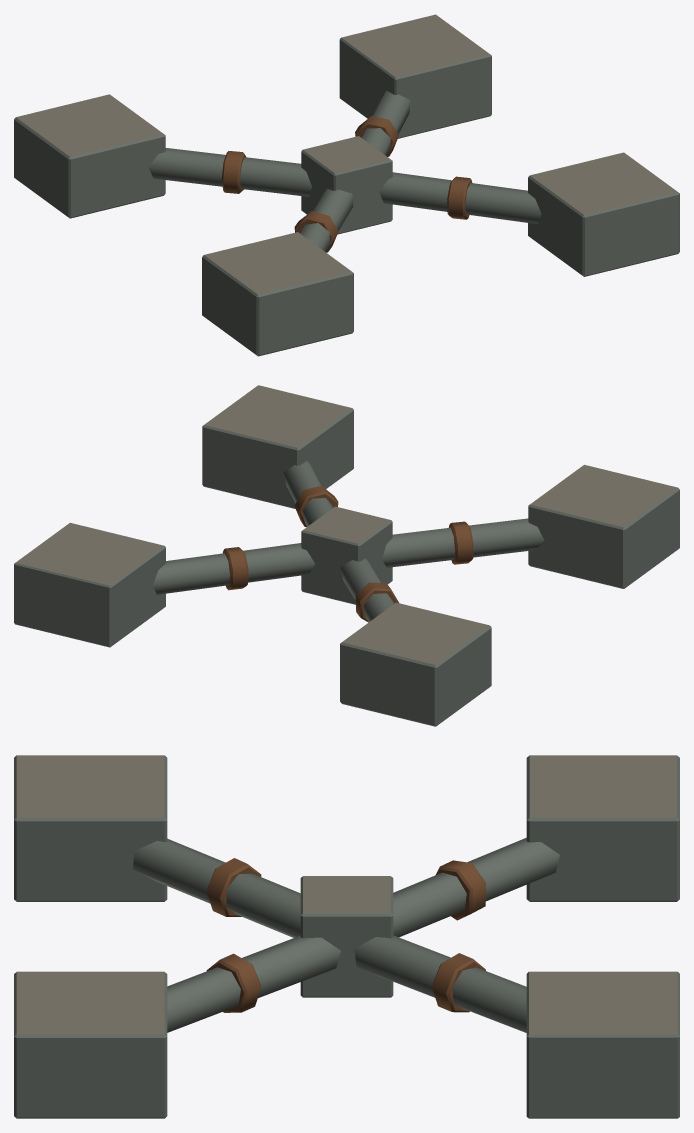
The model's file is R4C_ROD_CROSS_LOD1.fbx.
The picture shows the model from 3 angles, top to bottom: view 1: azimuth 30°, elevation 25°; view 2: azimuth 150°, elevation 25°; view 3: azimuth 270°, elevation 25°; orthographic projection. The views are drawn at different scales.
Parts seen in each view (by area): view 1: R4C_ROD_CROSS_LOD1; view 2: R4C_ROD_CROSS_LOD1; view 3: R4C_ROD_CROSS_LOD1.
Part boxes in pixels (x1,y1,x2,y2): R4C_ROD_CROSS_LOD1: (14,14,679,356); R4C_ROD_CROSS_LOD1: (14,385,679,726); R4C_ROD_CROSS_LOD1: (14,755,679,1118).
Size of the model in its own units: 1.62 by 0.226 by 1.62.
